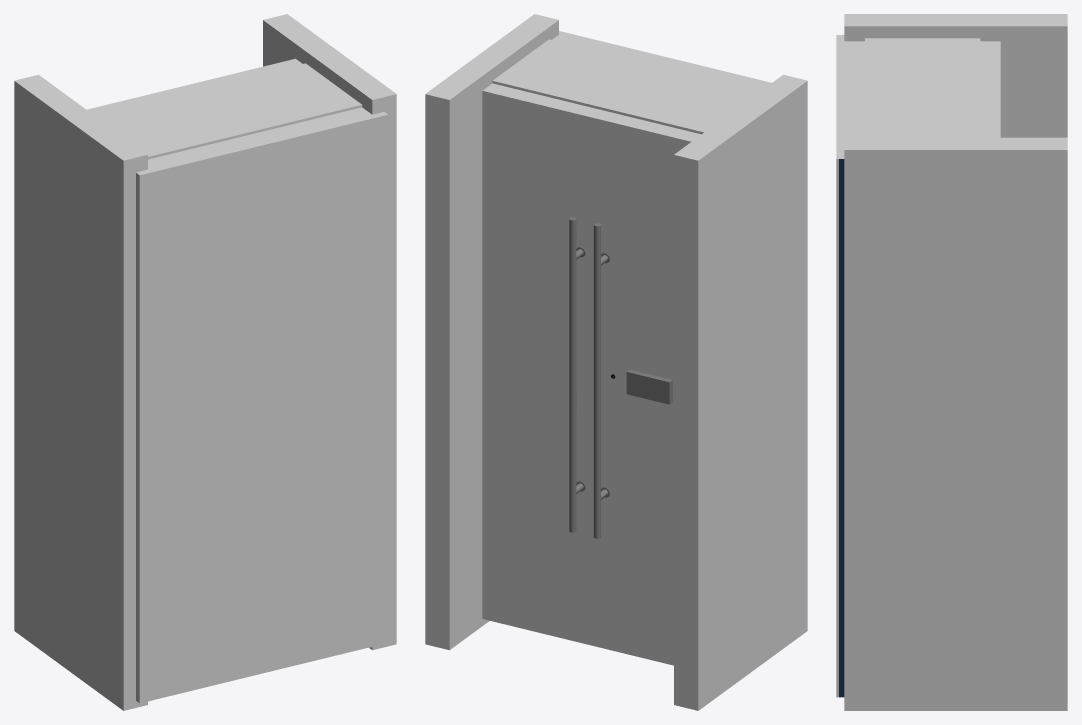
The model's file is TestFBXExport.fbx.
3 renders of one model, left to right at view 1: azimuth 30°, elevation 25°; view 2: azimuth 150°, elevation 25°; view 3: azimuth 270°, elevation 25°, orthographic.
Visible parts, largest first — view 1: Cube, TRight, Top, TLeft, Right, Left; view 2: Cube, TRight, TLeft, Top, Left, Handles, Right, Body_1_34; view 3: TLeft, Left, TRight, Top, Cube, Shell.
Boxes of the visible parts, left/top/right/bottom form: Cube: left=87, top=58, right=388, bottom=703; TRight: left=14, top=74, right=147, bottom=706; Top: left=94, top=63, right=362, bottom=159; TLeft: left=263, top=14, right=396, bottom=641; Right: left=14, top=383, right=147, bottom=710; Left: left=369, top=396, right=396, bottom=650; Cube: left=482, top=31, right=771, bottom=665; TRight: left=674, top=74, right=807, bottom=706; TLeft: left=425, top=14, right=558, bottom=643; Top: left=492, top=39, right=760, bottom=134; Left: left=425, top=379, right=489, bottom=650; Handles: left=569, top=217, right=609, bottom=538; Right: left=674, top=388, right=807, bottom=710; Body_1_34: left=626, top=369, right=672, bottom=404; TLeft: left=844, top=137, right=1067, bottom=563; Left: left=844, top=455, right=1067, bottom=710; TRight: left=844, top=14, right=1067, bottom=137; Top: left=865, top=38, right=980, bottom=137; Cube: left=836, top=35, right=1000, bottom=697; Shell: left=839, top=159, right=844, bottom=697.
Size of what is drawn, in the model's own units: 1.12 by 2.15 by 0.8018.
